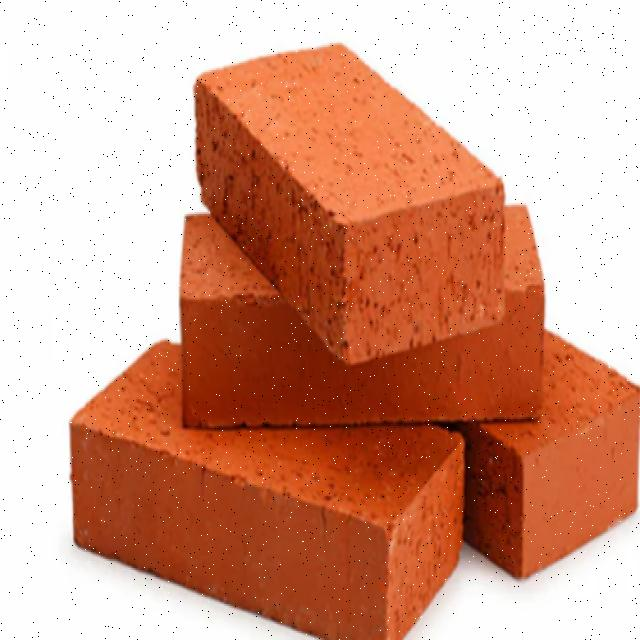bricks: (68, 336, 465, 640), (195, 42, 507, 364), (177, 203, 544, 430), (462, 327, 640, 583)
